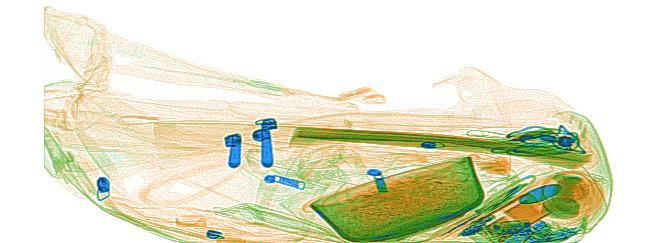seal: (540, 169, 584, 221)
